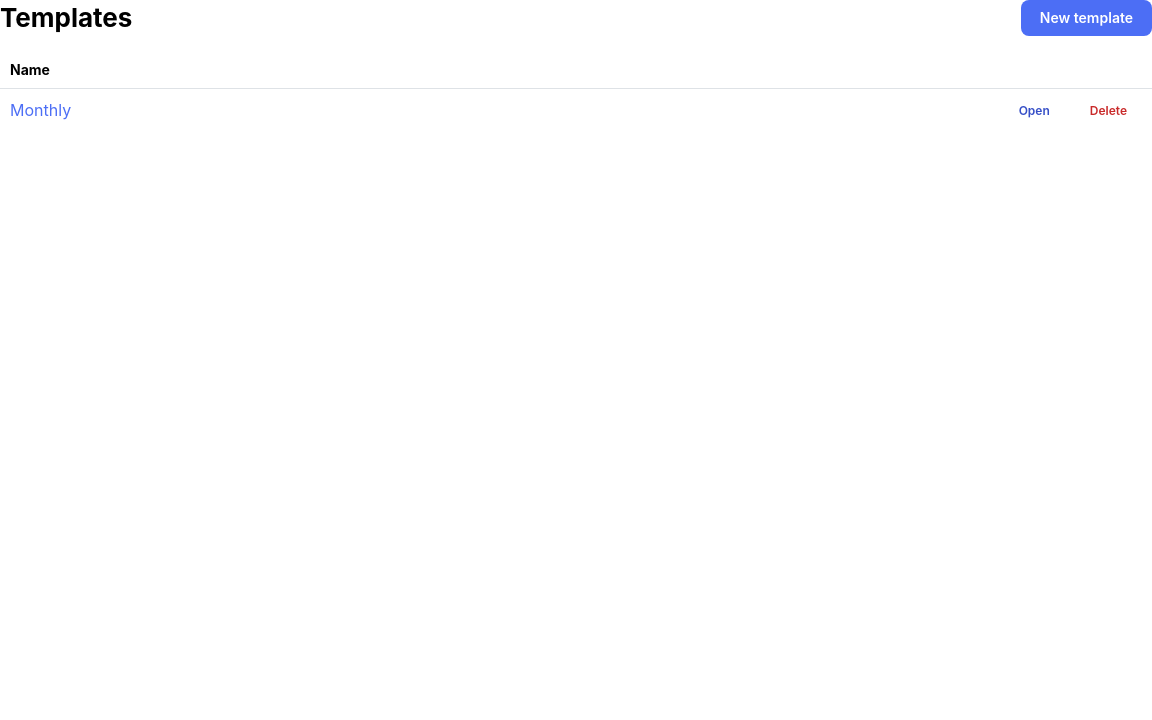
Scenario: TemplatesPage › opens a template's detail and shows its items
This screenshot has width=1152, height=720.
Click the button "Open" at (1034, 111), box left=1004, top=96, right=1065, bottom=126
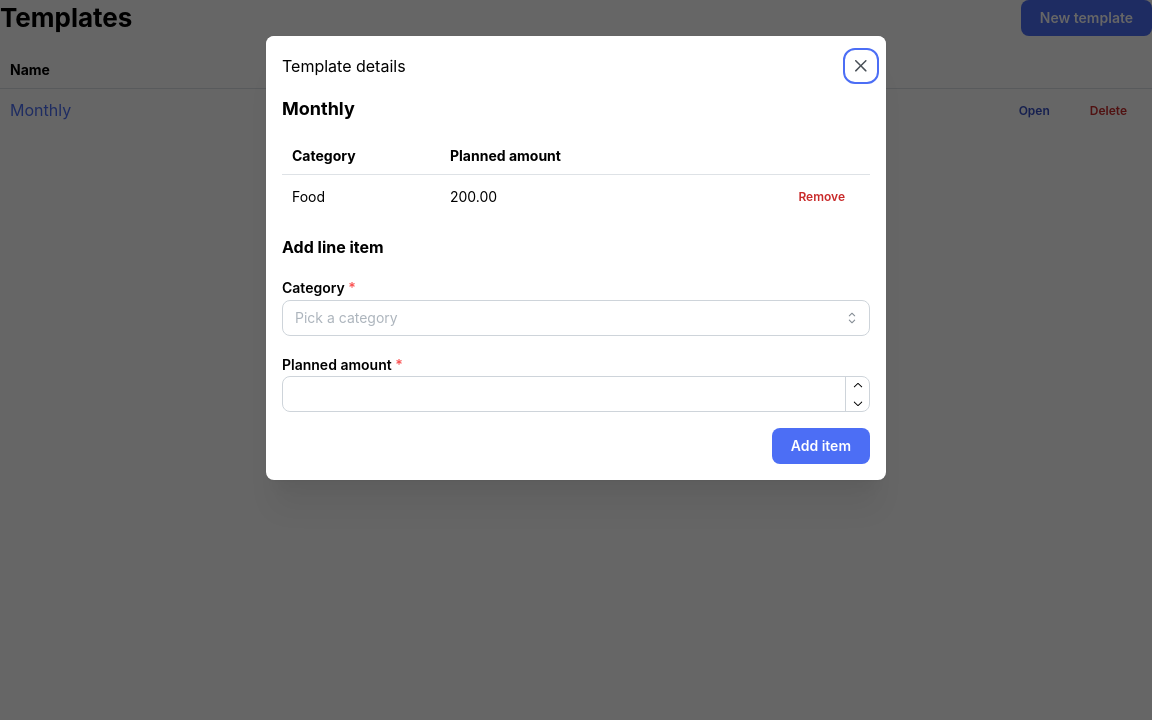
Expected: the heading "Monthly" is shown, left=282, top=98, right=355, bottom=119
Expected: the text "Food" is shown, left=282, top=174, right=440, bottom=219
Expected: the text "200.00" is shown, left=440, top=174, right=688, bottom=219
